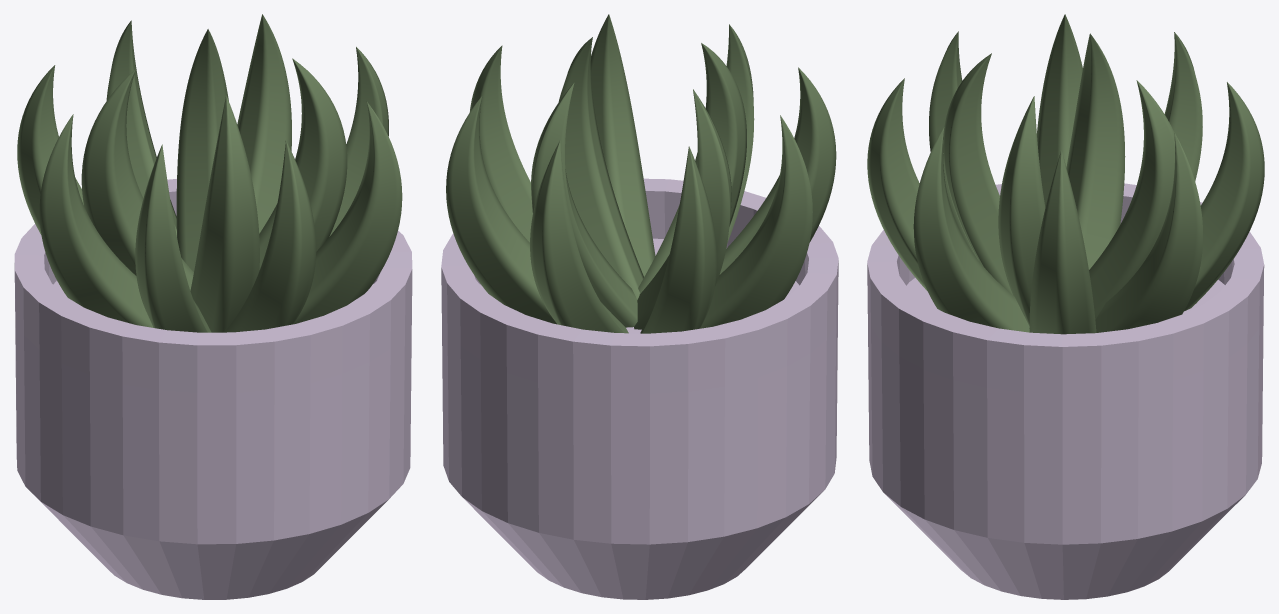
File: planta2.fbx
The picture shows the model from 3 angles, left to right: view 1: azimuth 30°, elevation 25°; view 2: azimuth 150°, elevation 25°; view 3: azimuth 270°, elevation 25°; orthographic projection.
Parts seen in each view (by area): view 1: maceta.001, planta 1; view 2: maceta.001, planta 1; view 3: maceta.001, planta 1.
Part boxes in pixels (bbox=[...]): maceta.001: bbox=[14, 179, 412, 599]; planta 1: bbox=[17, 14, 402, 332]; maceta.001: bbox=[441, 178, 838, 599]; planta 1: bbox=[446, 14, 836, 333]; maceta.001: bbox=[867, 183, 1264, 599]; planta 1: bbox=[867, 14, 1264, 334].
Size of the model in its own units: 75.39 by 102 by 75.62.
